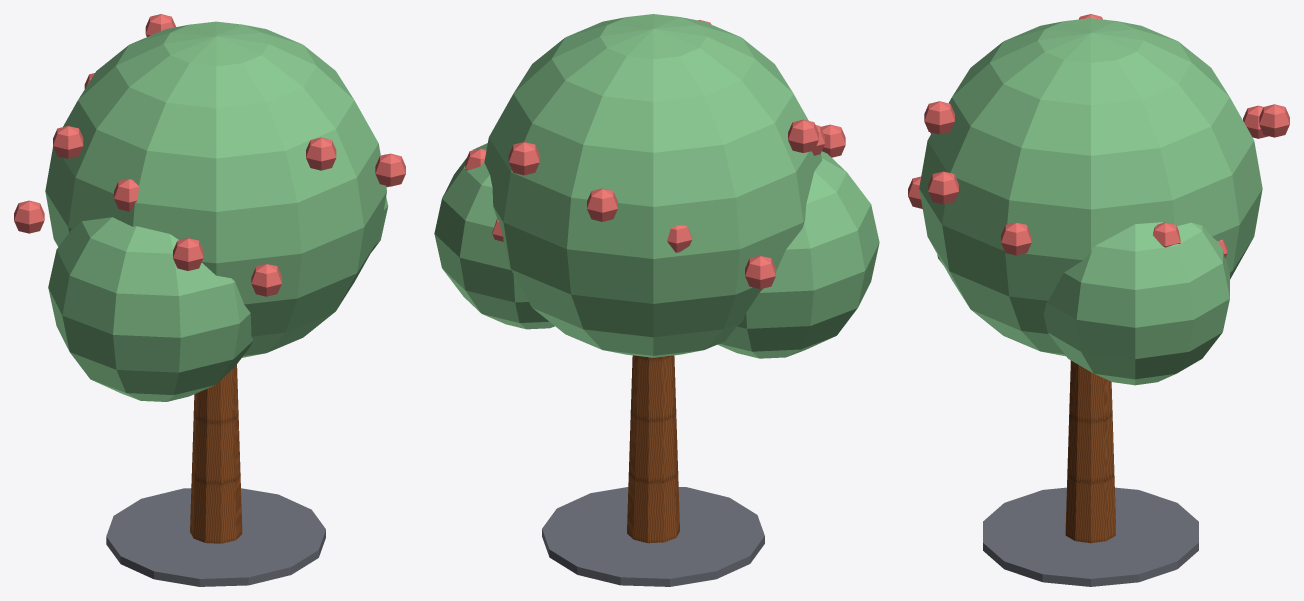
Rendered from theme-park-rides-and-coasters-theme-park-rides-and-coa-0a2475e3__28703.glb.
3 renders of one model, left to right at view 1: azimuth 30°, elevation 25°; view 2: azimuth 150°, elevation 25°; view 3: azimuth 270°, elevation 25°, orthographic.
Parts seen in each view (by area): view 1: theme-park-rides-and-coasters-flowering-tree; view 2: theme-park-rides-and-coasters-flowering-tree; view 3: theme-park-rides-and-coasters-flowering-tree.
Boxes of the visible parts, <box> form: theme-park-rides-and-coasters-flowering-tree: <box>14,14,405,586</box>; theme-park-rides-and-coasters-flowering-tree: <box>434,14,879,586</box>; theme-park-rides-and-coasters-flowering-tree: <box>908,14,1289,586</box>.
Size of the model in its own units: 3.8 by 5.05 by 3.45.
4 materials, 1 textured.
